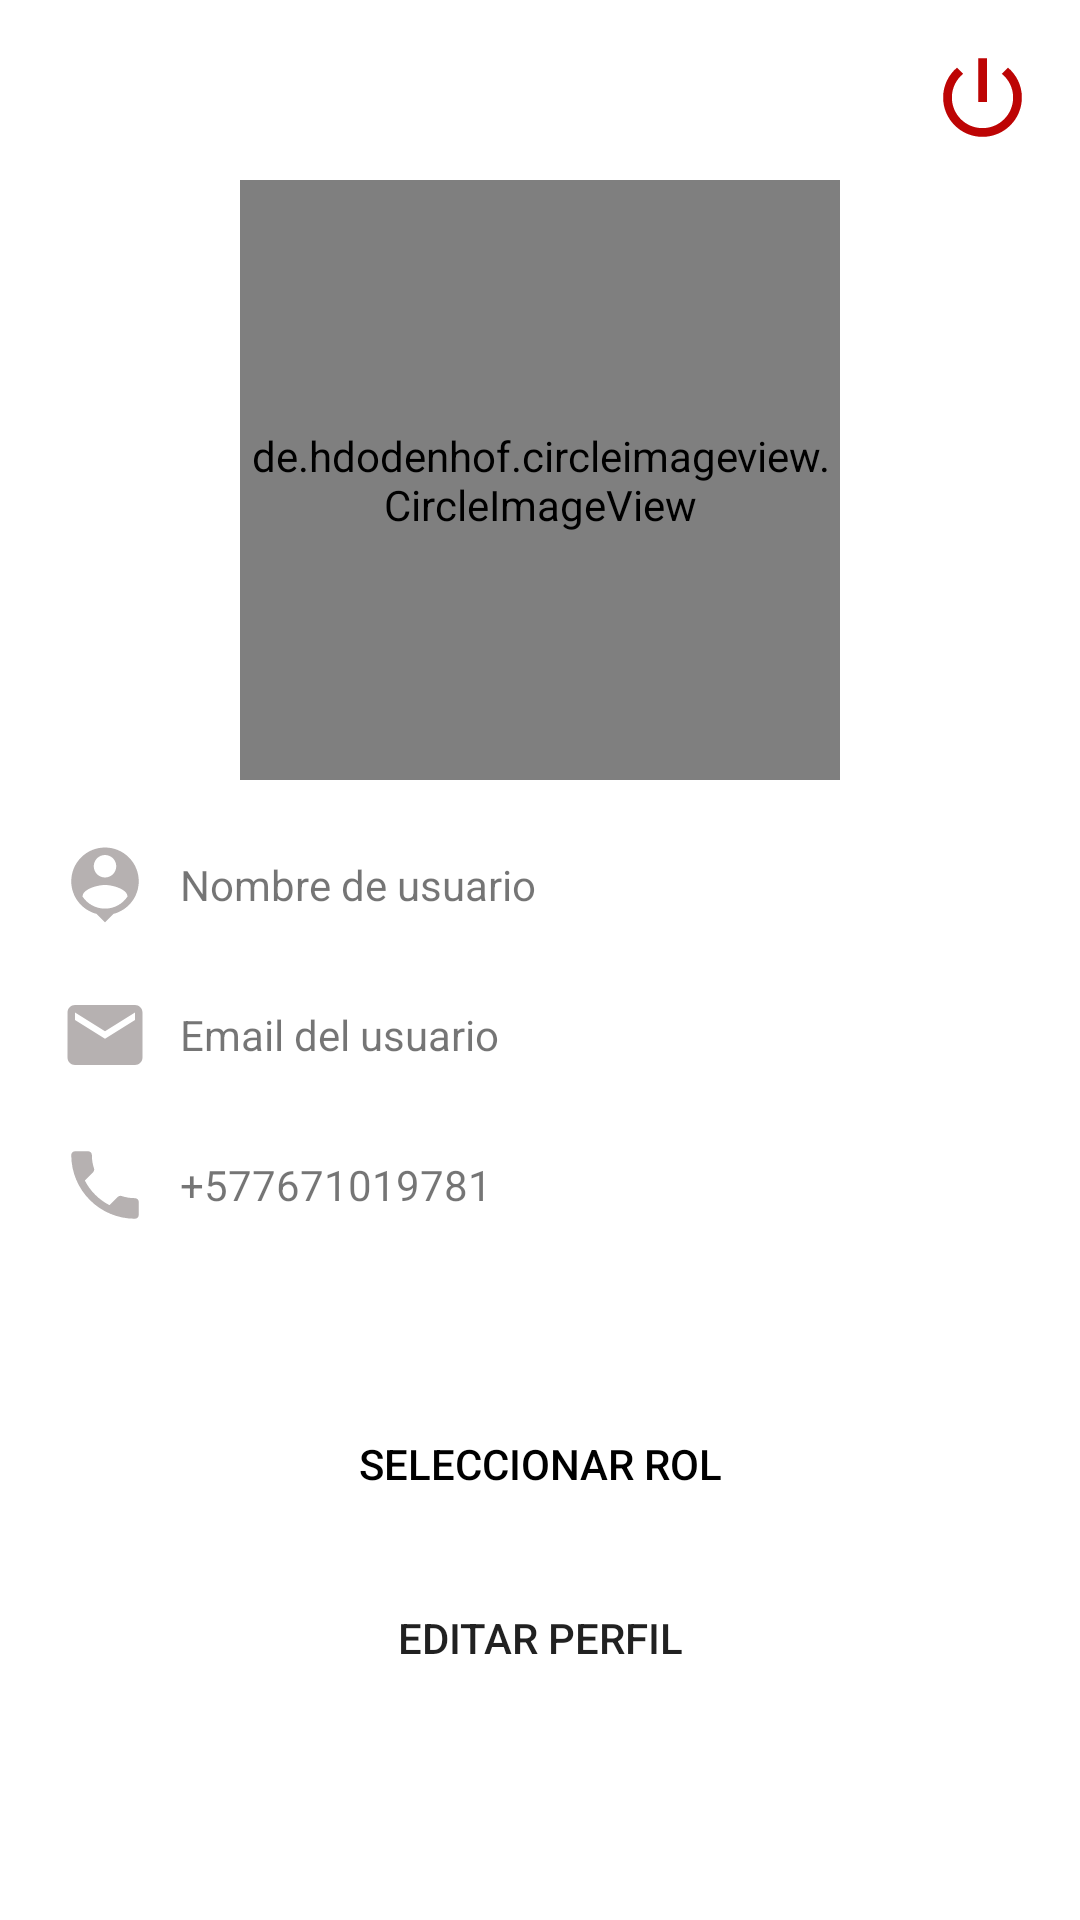

Named icons in this screenshot (1080 x 1920) and their bounding boxes, (x1, y1, x2, y2):
person pin: (71, 847, 139, 922)
phone: (71, 1151, 139, 1219)
power: (943, 58, 1022, 137)
